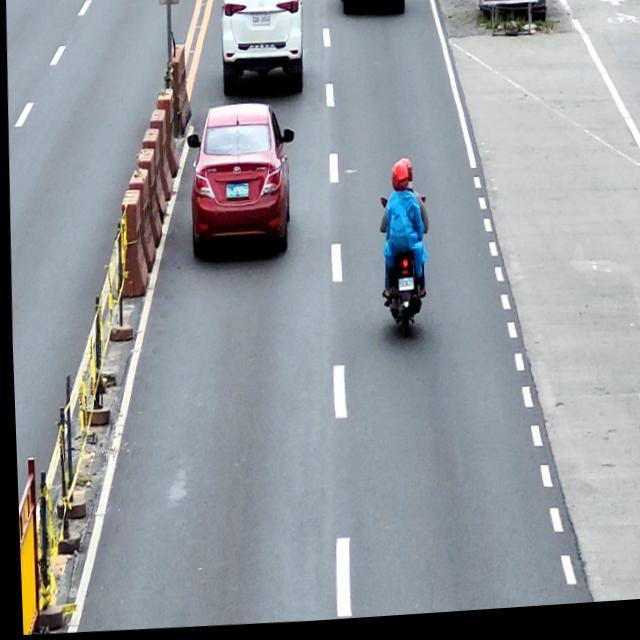Car: (181, 102, 297, 264), (215, 0, 308, 103), (339, 0, 407, 24)
License-Plate: (224, 185, 247, 203), (251, 17, 271, 30), (395, 283, 411, 296)
Motorcycle: (374, 197, 427, 340)
